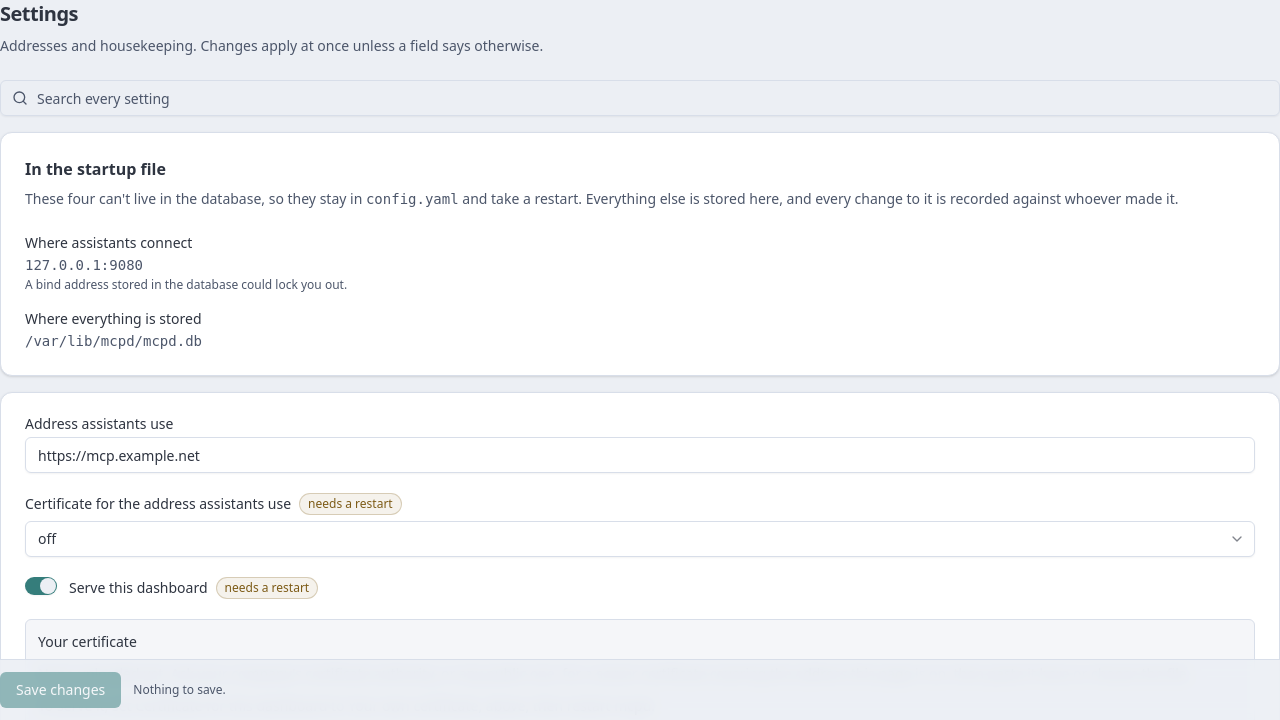
Scenario: the settings page, after the config file shrank › spells the strictest inline ceiling as a word
Expected: the field labelled "Address assistants use" is shown, [25,437,1255,473]
In the field with placeholder "Search every setting": {"x": 640, "y": 98} [0,80,1279,116], type "conversation"
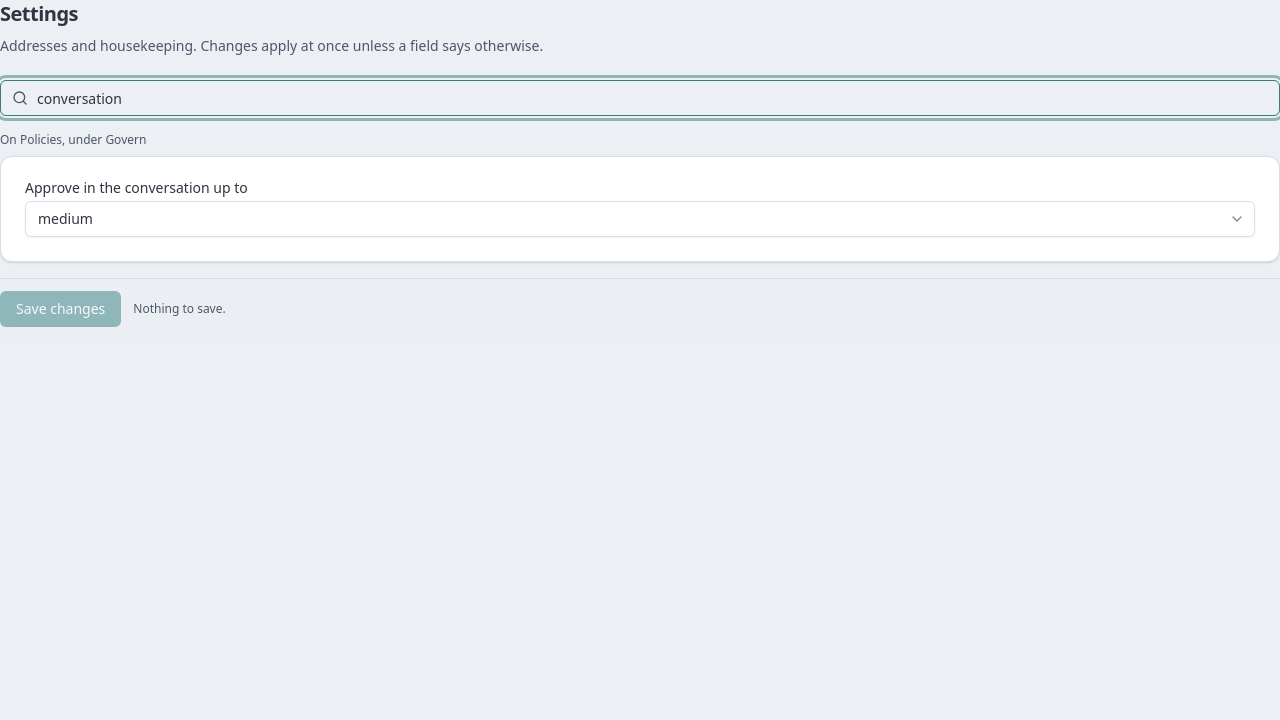
Expected: the dropdown labelled "Approve in the conversation up to" shows "medium", [25,201,1255,237]
